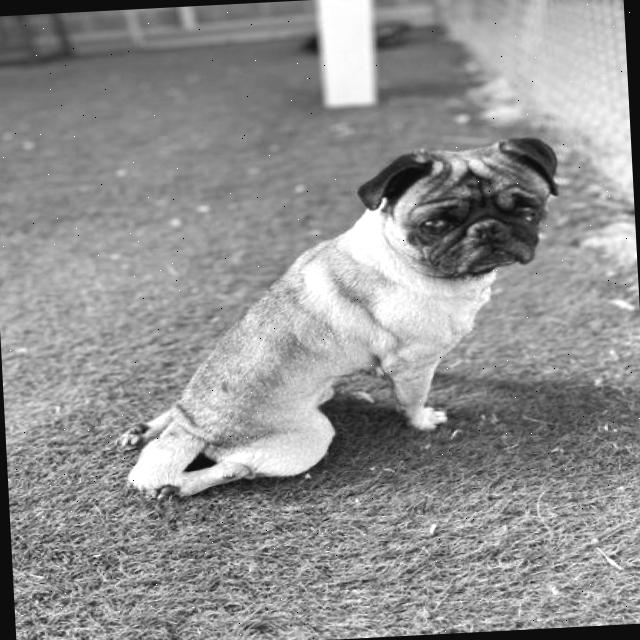pug_dog: (348, 124, 576, 296)
